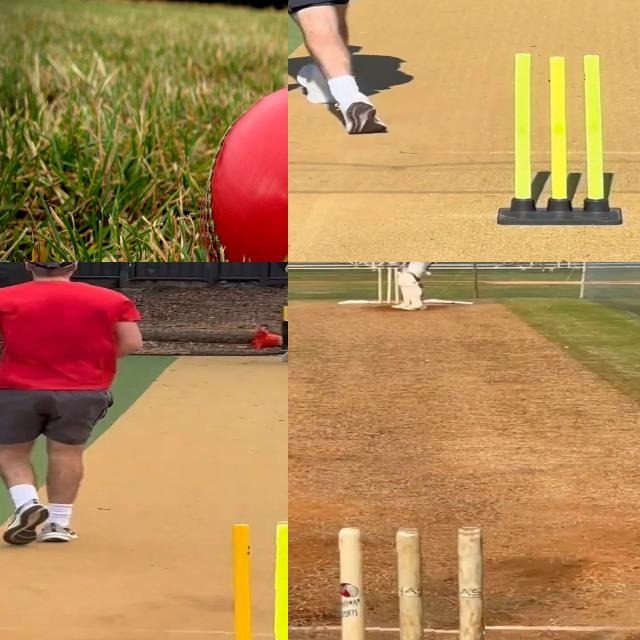Cricket ball: (198, 75, 288, 262)
Stumps: (497, 50, 621, 226), (337, 527, 484, 640), (208, 519, 288, 640), (376, 267, 399, 307)
